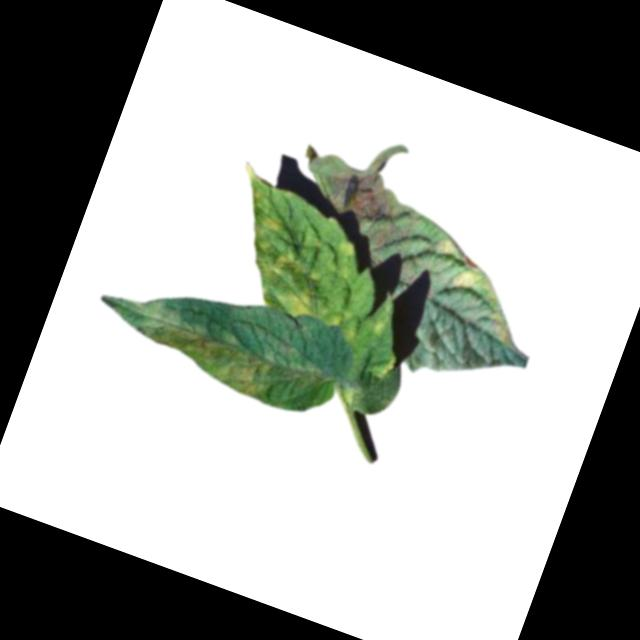Leaf_Mold: (84, 282, 285, 403), (412, 231, 539, 346), (282, 280, 327, 324), (266, 244, 314, 285), (252, 211, 285, 241)
